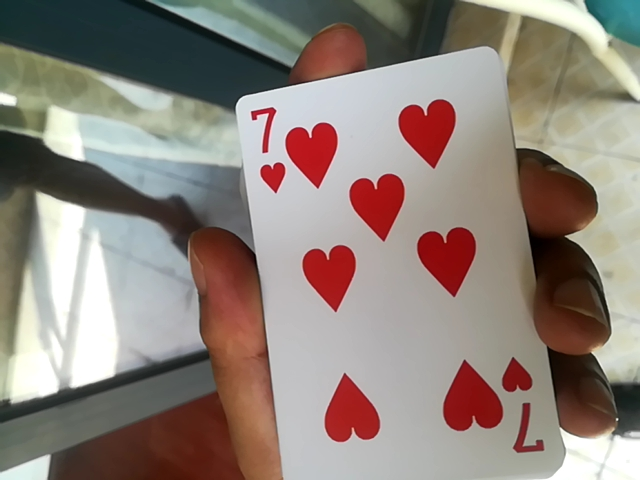hx 7: (229, 54, 582, 475)
